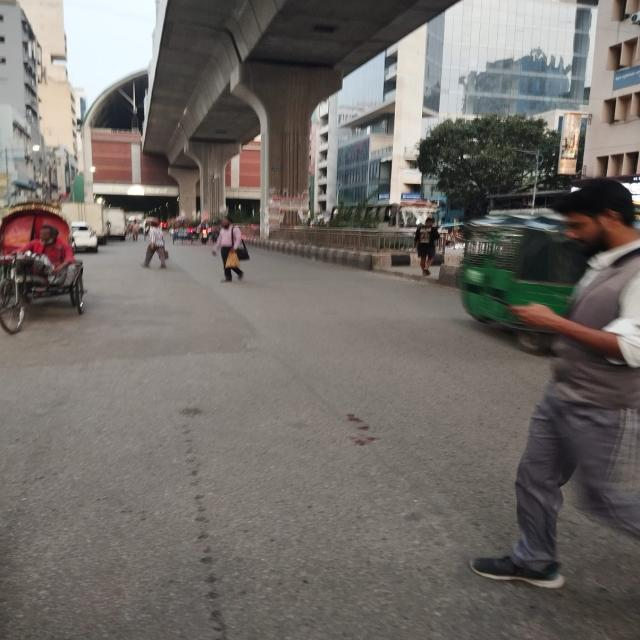person: (471, 178, 640, 588), (212, 217, 244, 283), (142, 219, 167, 269)
